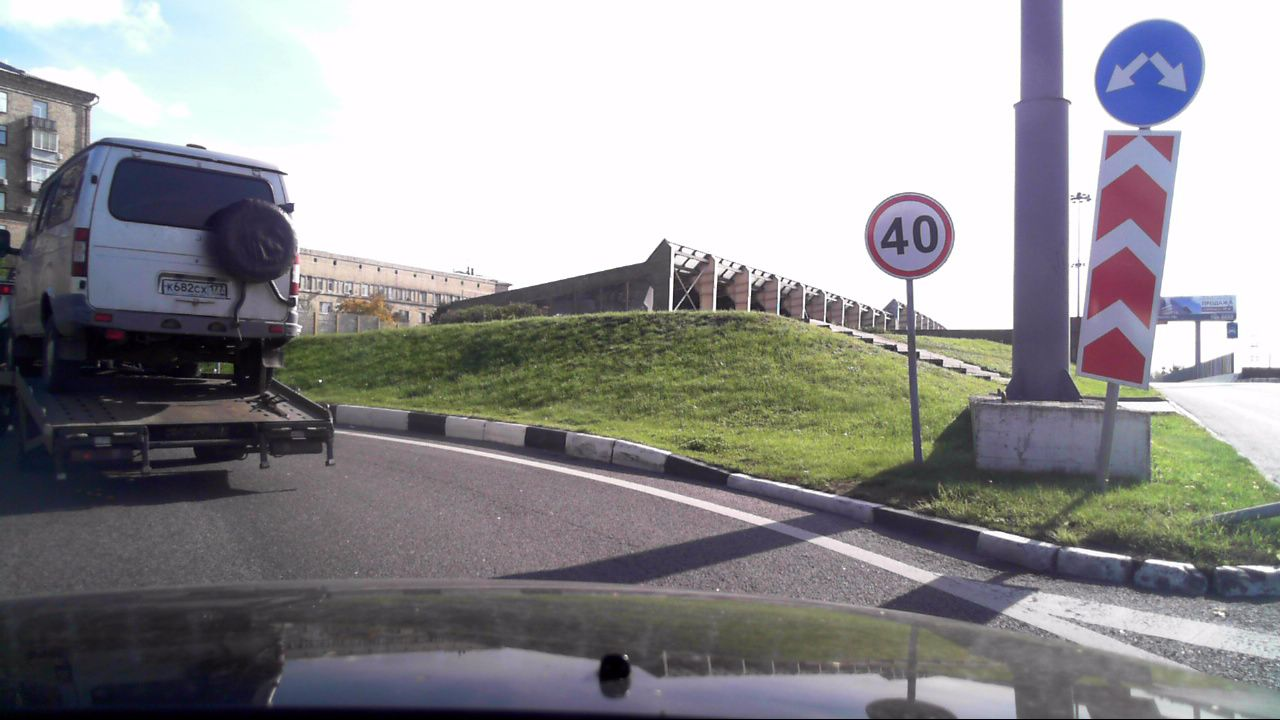speed_warning_40: (863, 191, 957, 279)
